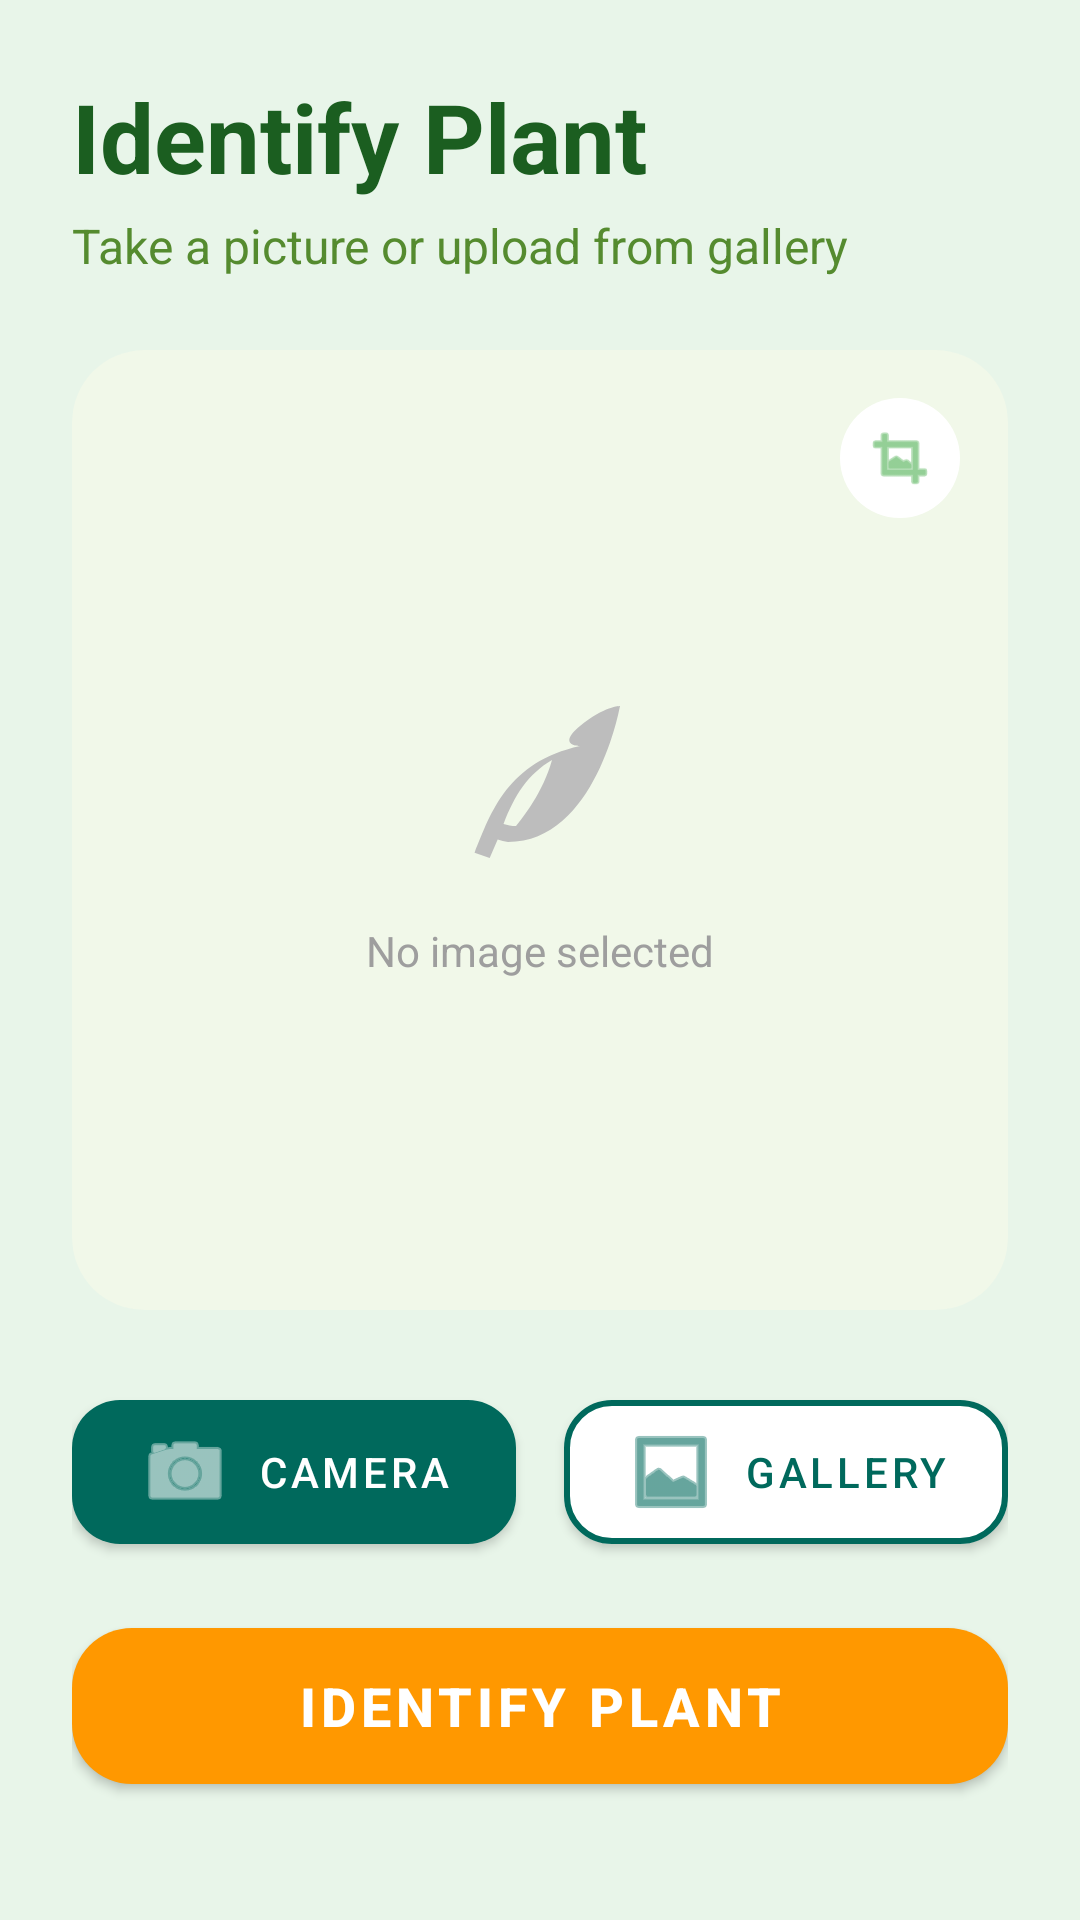

Icons on this 1080×1920 Android screen, each with the point to tap as [x,y]:
crop: [900,458]
plant illustration: [547,782]
